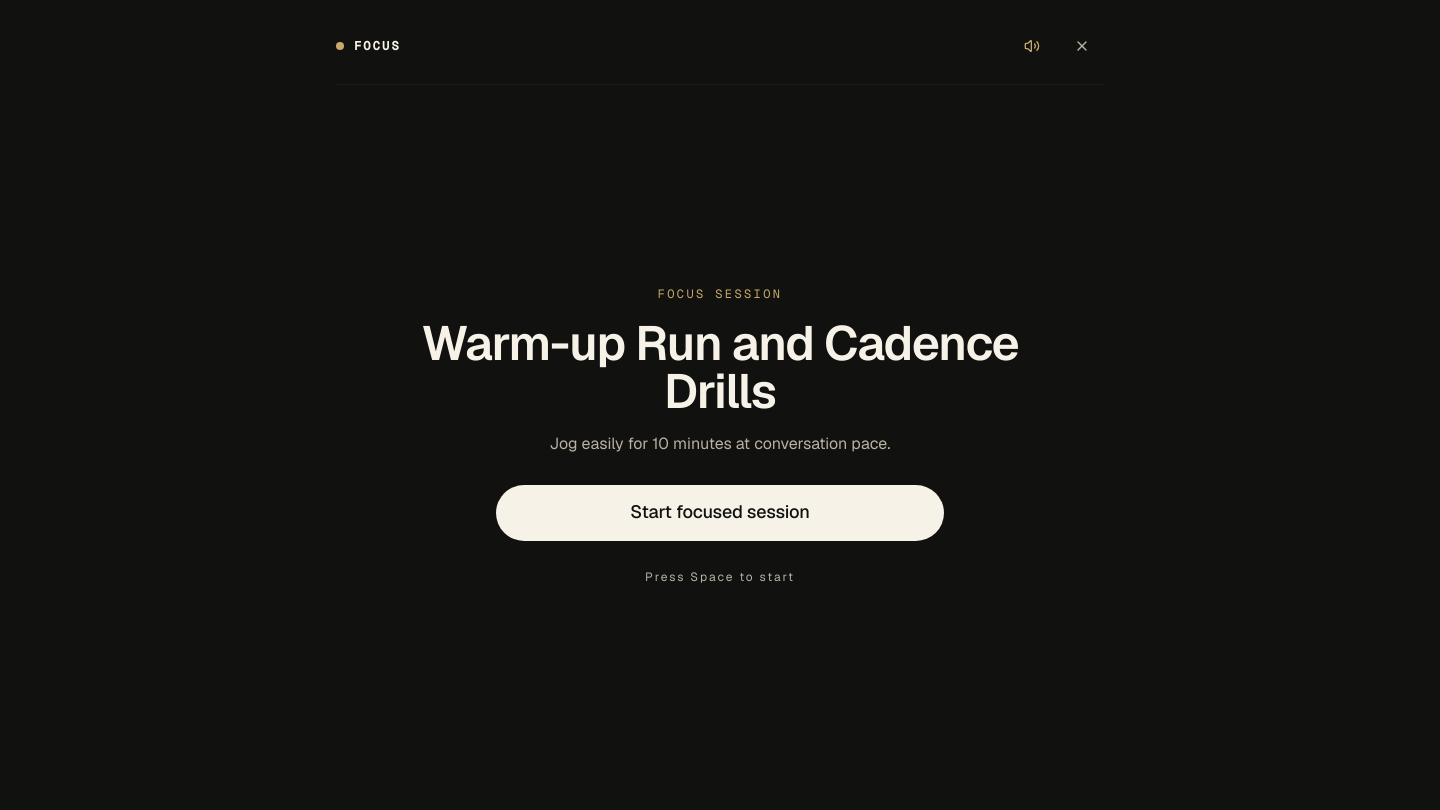
it: FocusSessionModal › counts down and supports pause/resume
This screenshot has width=1440, height=810.
Click the button "Start focused session": point(720, 512) [496,484,944,540]
Wait 3000 ms
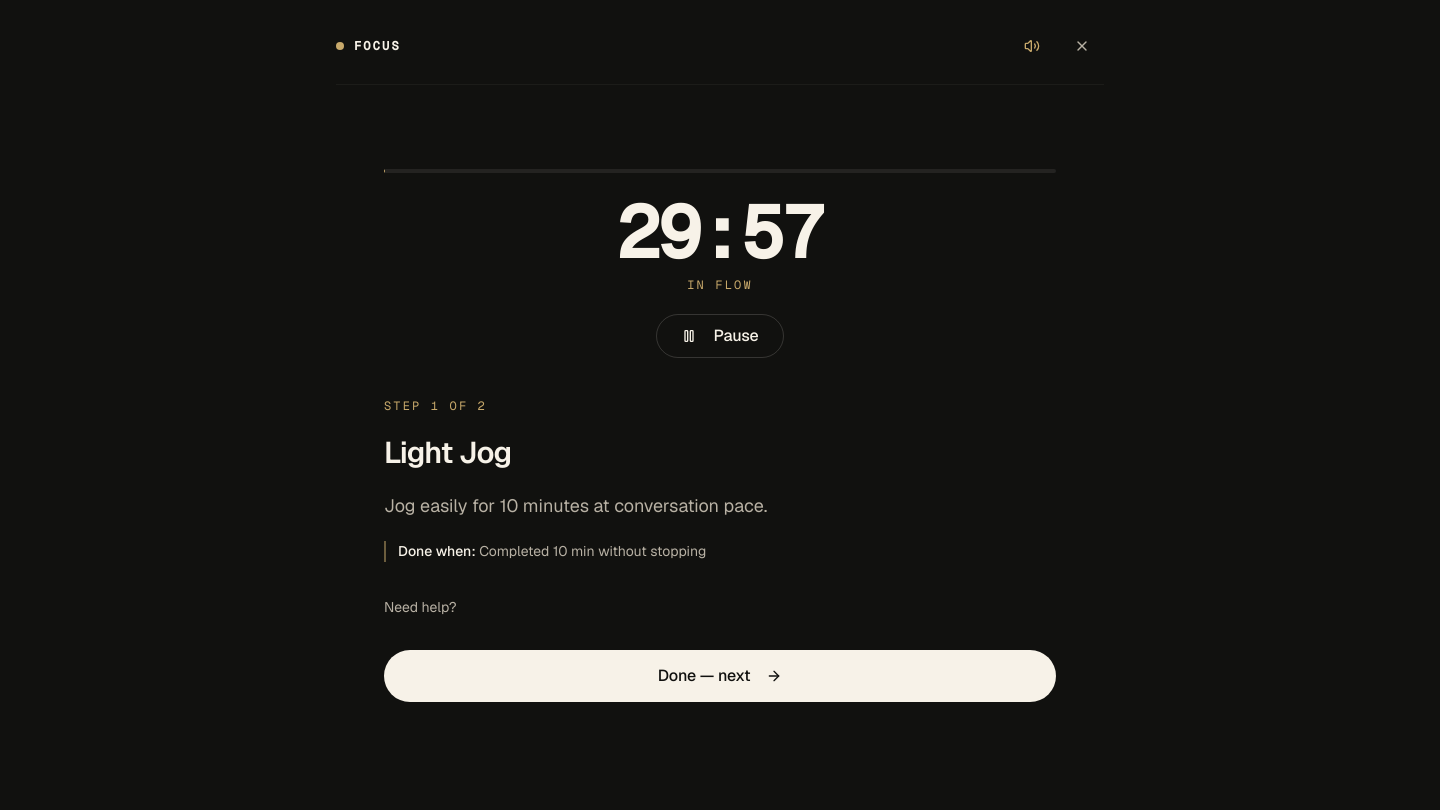
Expected: the text "29:57" is shown, [616,197,824,269]
Click the button "Pause": point(720, 336) [656,314,784,358]
Wait 3000 ms
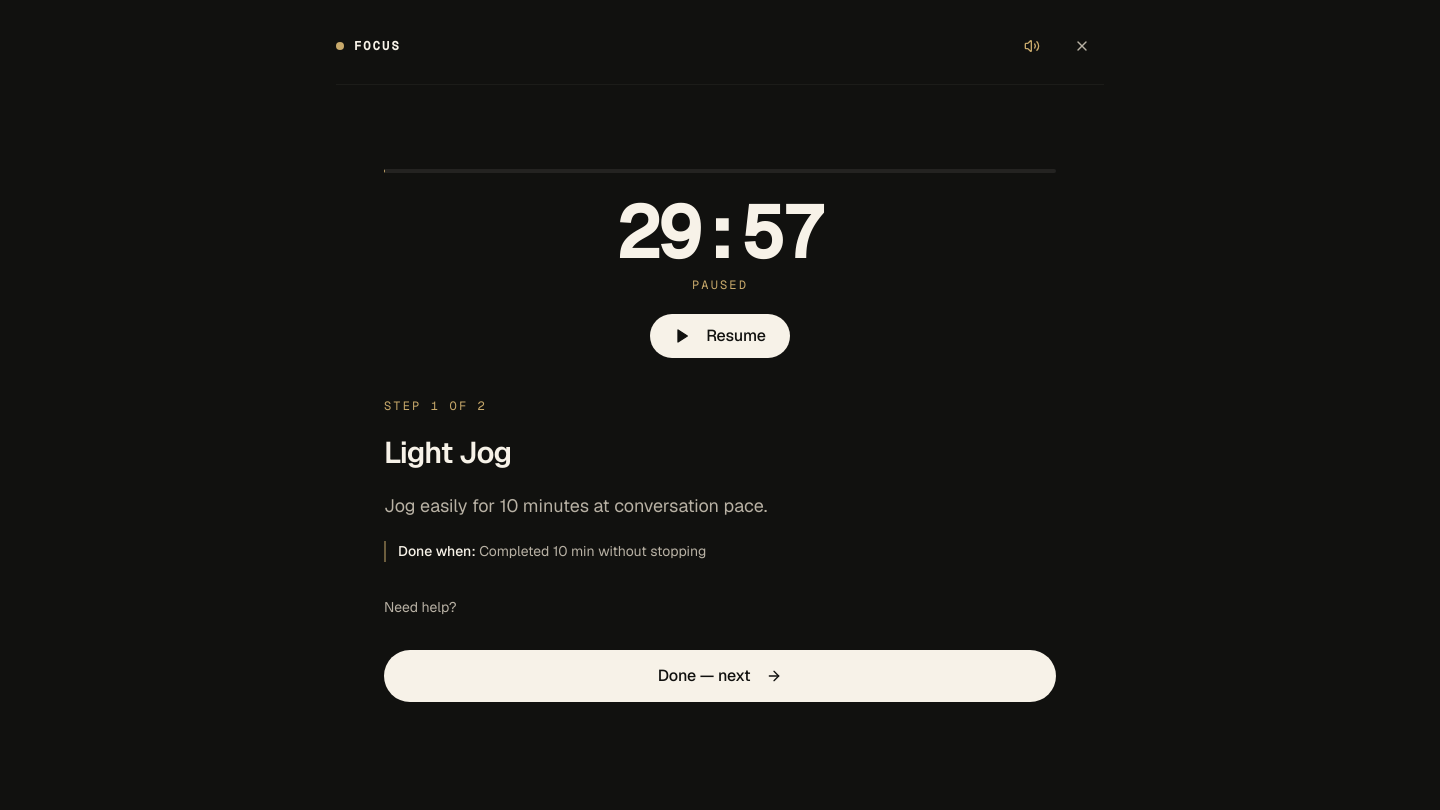
Expected: the text "29:57" is shown, [616,197,824,269]
Expected: the text "Paused" is shown, [692,277,748,294]
Press Space
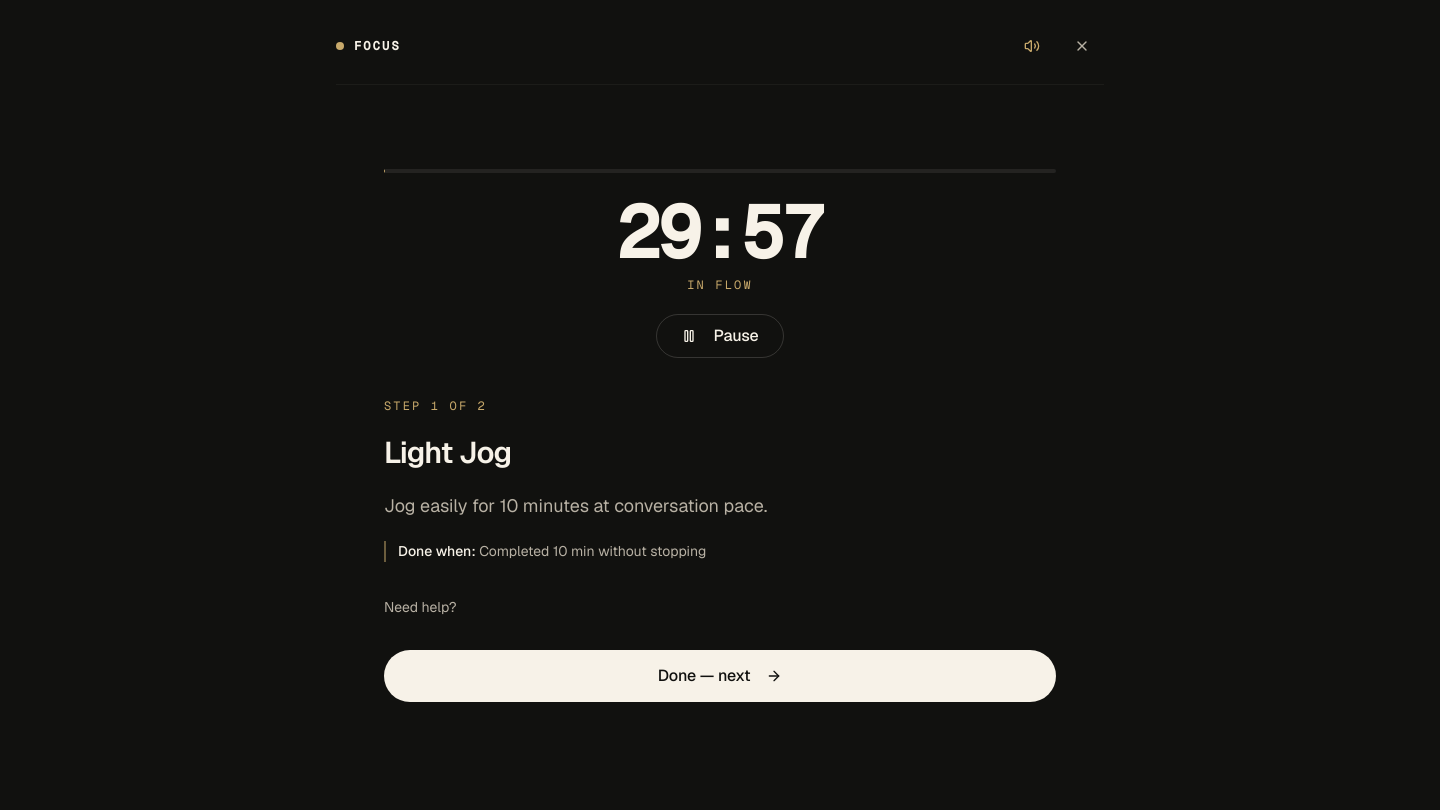
Expected: the text "In flow" is shown, [687,277,753,294]
